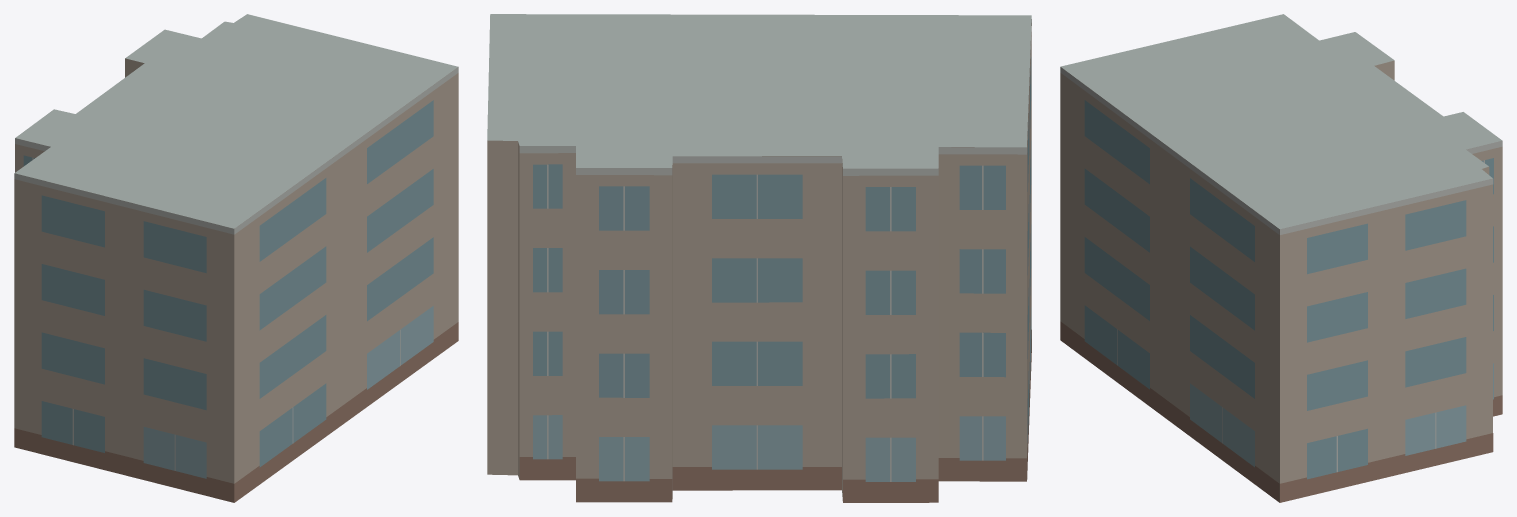
File: survey-upis-32465087.glb
3 views of the same model, side by side, from view 1: azimuth 30°, elevation 25°; view 2: azimuth 150°, elevation 25°; view 3: azimuth 270°, elevation 25° (orthographic). The views are drawn at different scales.
Parts seen in each view (by area): view 1: survey-upis-32465087.tmp; view 2: survey-upis-32465087.tmp; view 3: survey-upis-32465087.tmp.
Boxes of the visible parts, x1=… form: survey-upis-32465087.tmp: x1=14, y1=14, x2=458, y2=502; survey-upis-32465087.tmp: x1=487, y1=14, x2=1031, y2=502; survey-upis-32465087.tmp: x1=1060, y1=14, x2=1502, y2=502.
Bounding box in the file's own units: 19.08 × 11.3 × 16.57.
